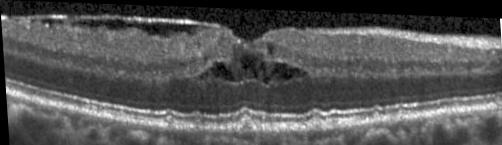intraretinal_cyst: (71, 18, 210, 37), (261, 60, 308, 82), (208, 59, 243, 81), (239, 52, 265, 75), (31, 18, 63, 25), (265, 40, 273, 52), (198, 71, 207, 79)
lamellar_macular_rupture: (232, 28, 268, 41)
retinal_drusen: (238, 117, 252, 128), (163, 116, 173, 126), (309, 117, 320, 126), (371, 111, 381, 119), (329, 116, 339, 124), (192, 119, 200, 128)
